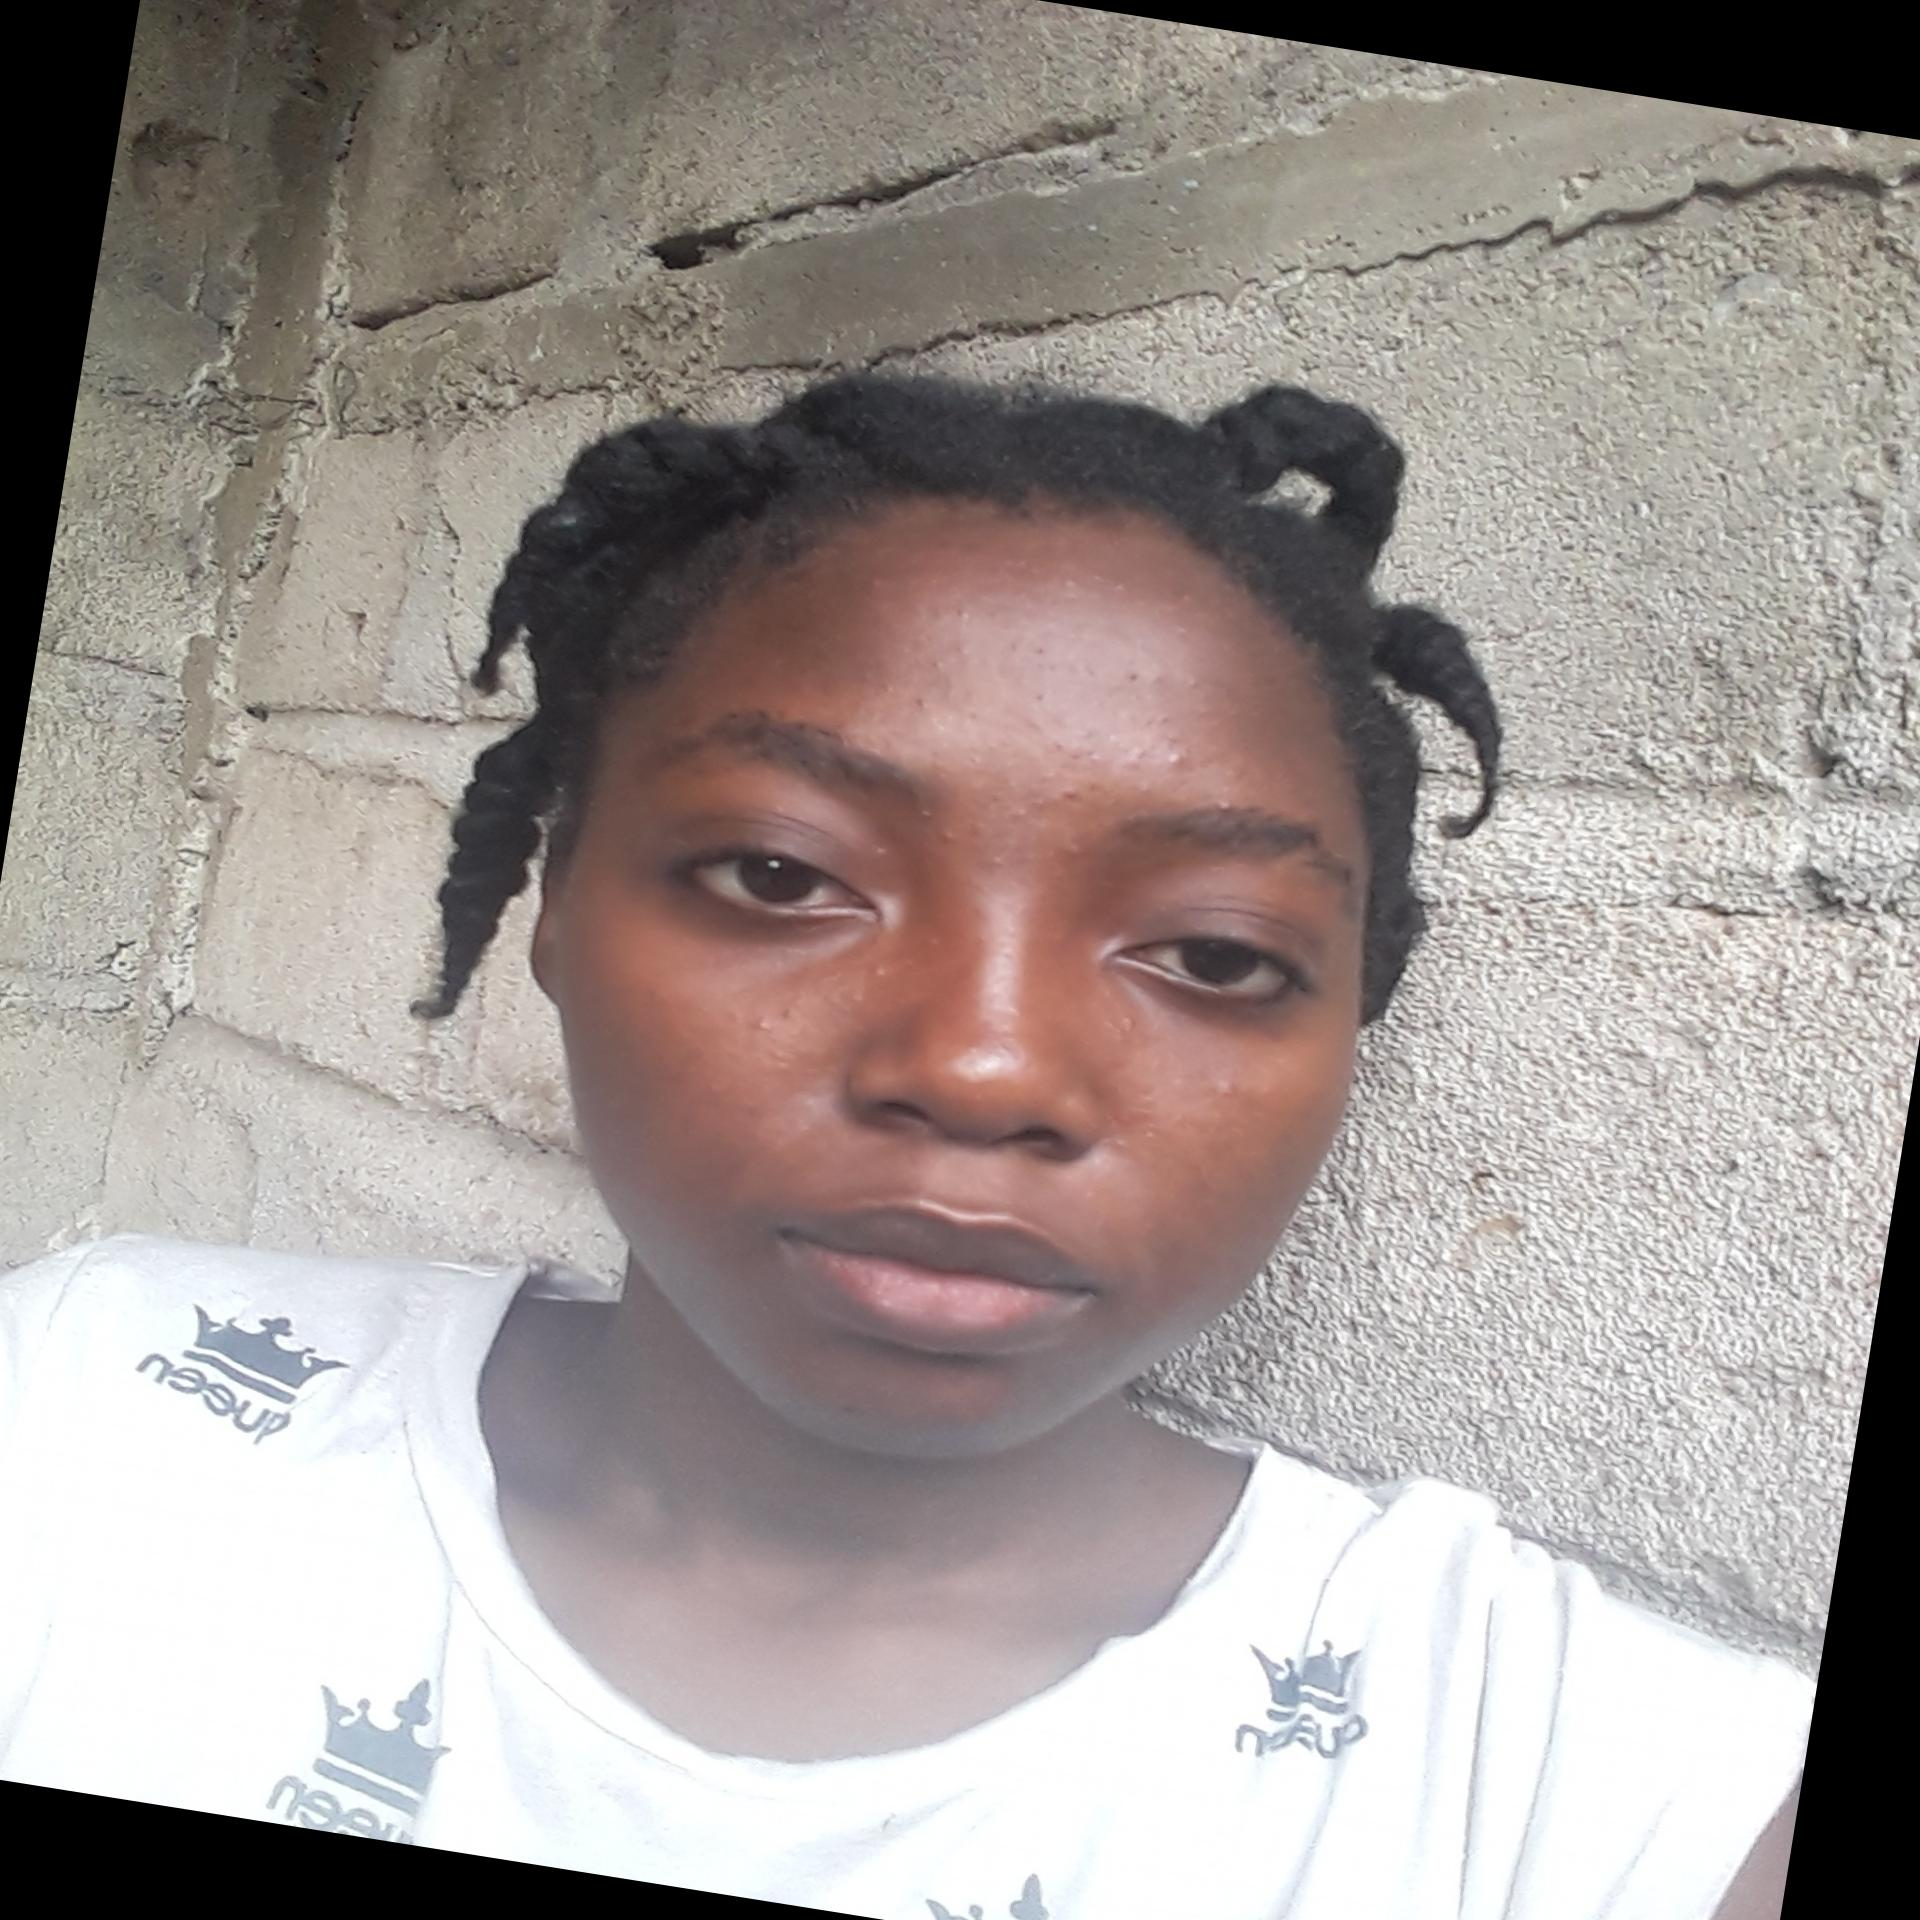Acne: (1122, 731, 1210, 786), (1053, 564, 1143, 607), (907, 812, 971, 856), (1030, 781, 1090, 826), (832, 566, 893, 601), (893, 679, 946, 716), (749, 999, 798, 1037), (916, 647, 972, 680), (1050, 837, 1097, 872), (1166, 578, 1215, 608), (1099, 1011, 1141, 1044), (988, 545, 1037, 573), (860, 955, 900, 988), (758, 1046, 796, 1080), (930, 596, 971, 628), (1160, 617, 1201, 645), (1201, 1076, 1247, 1101), (1169, 670, 1208, 698), (1199, 793, 1236, 819), (1122, 781, 1162, 804), (1138, 1124, 1166, 1148), (1108, 1131, 1131, 1155), (702, 1078, 728, 1095), (844, 988, 867, 1007), (928, 934, 948, 955)
